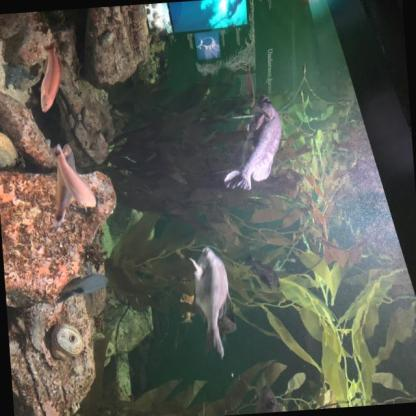fish: (217, 92, 288, 194), (186, 241, 238, 363), (49, 140, 99, 214), (46, 144, 81, 228), (32, 38, 66, 115), (53, 272, 109, 306), (242, 252, 283, 295), (242, 382, 283, 414)
